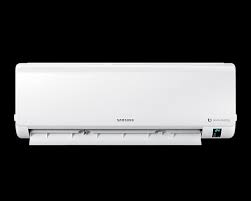ac: (13, 58, 238, 147)
